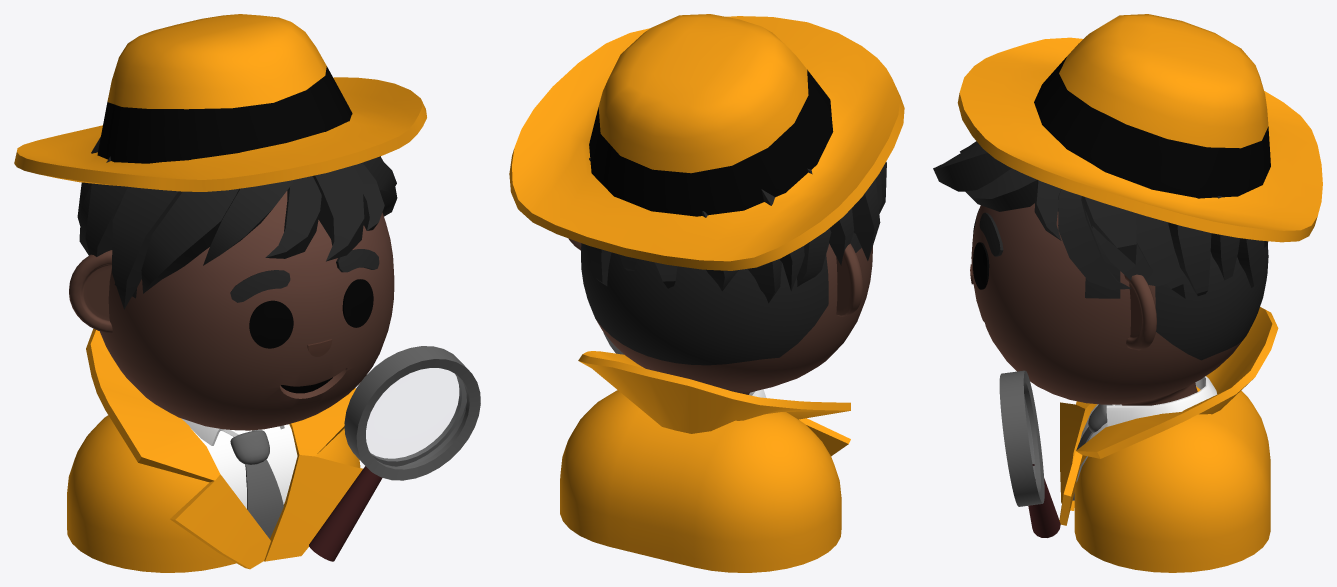
Rendered from detective.glb.
3 renders of one model, left to right at view 1: azimuth 30°, elevation 25°; view 2: azimuth 150°, elevation 25°; view 3: azimuth 270°, elevation 25°, orthographic. The views are drawn at different scales.
Visible parts, largest first — view 1: Plane.078, Roundcube.147, Cube.1862, Plane.080, Sphere.118, Circle.788, Circle.785, Cylinder.121, Circle.789, Circle.787, Cube.1870; view 2: Plane.078, Sphere.118, Roundcube.147, Plane.080, Cube.1862, Cylinder.121; view 3: Plane.078, Roundcube.147, Sphere.118, Cube.1862, Plane.080, Circle.788, Cylinder.121, Plane.077, Circle.785, Circle.787.
Boxes of the visible parts, left/top/right/bottom form: Plane.078: left=14, top=14, right=426, bottom=191; Roundcube.147: left=100, top=191, right=394, bottom=430; Cube.1862: left=77, top=136, right=397, bottom=309; Plane.080: left=86, top=328, right=362, bottom=569; Sphere.118: left=67, top=415, right=360, bottom=572; Circle.788: left=309, top=346, right=480, bottom=561; Circle.785: left=249, top=279, right=373, bottom=348; Cylinder.121: left=69, top=250, right=112, bottom=333; Circle.789: left=245, top=459, right=283, bottom=538; Circle.787: left=230, top=249, right=379, bottom=302; Cube.1870: left=230, top=430, right=269, bottom=464; Plane.078: left=509, top=14, right=904, bottom=270; Sphere.118: left=560, top=390, right=841, bottom=572; Roundcube.147: left=581, top=232, right=872, bottom=394; Plane.080: left=578, top=351, right=850, bottom=456; Cube.1862: left=586, top=157, right=886, bottom=303; Cylinder.121: left=568, top=238, right=862, bottom=316; Plane.078: left=957, top=14, right=1322, bottom=242; Roundcube.147: left=971, top=203, right=1268, bottom=405; Sphere.118: left=1074, top=386, right=1270, bottom=572; Cube.1862: left=933, top=141, right=1268, bottom=298; Plane.080: left=1059, top=307, right=1278, bottom=525; Circle.788: left=999, top=370, right=1060, bottom=537; Cylinder.121: left=1124, top=274, right=1156, bottom=350; Plane.077: left=1106, top=376, right=1217, bottom=426; Circle.785: left=973, top=209, right=989, bottom=289; Circle.787: left=979, top=212, right=1003, bottom=256.
Bounding box in the file's own units: 1.98 × 2.71 × 1.99.
Materials: 3 (2 with a texture image).
